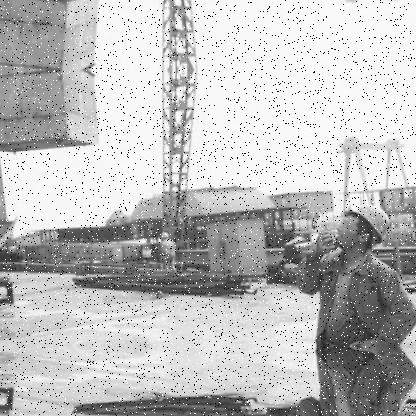Helmet: (330, 202, 400, 262), (158, 229, 171, 245)
